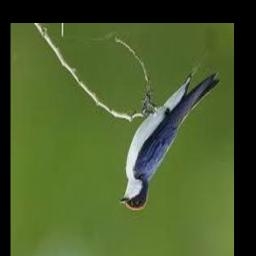Swallow: (118, 70, 221, 210)
